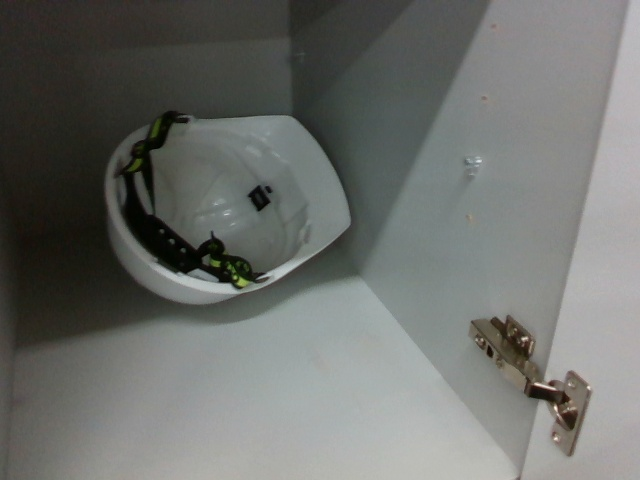helmet: (95, 106, 357, 312)
